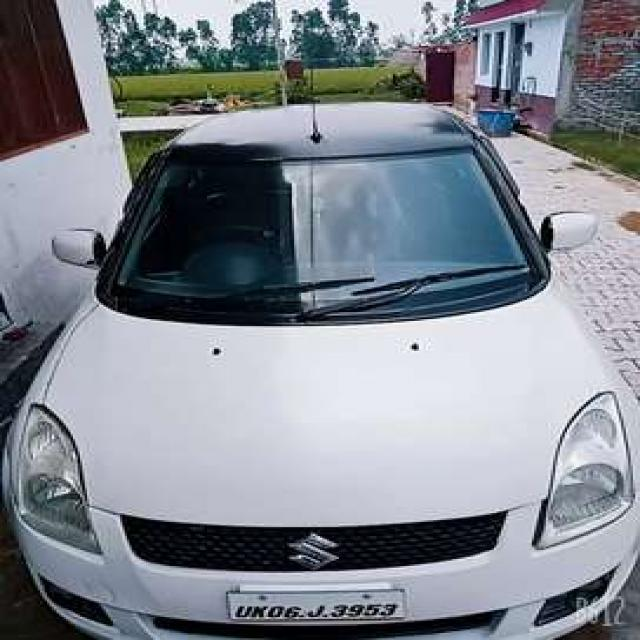Plate: (225, 588, 406, 622)
